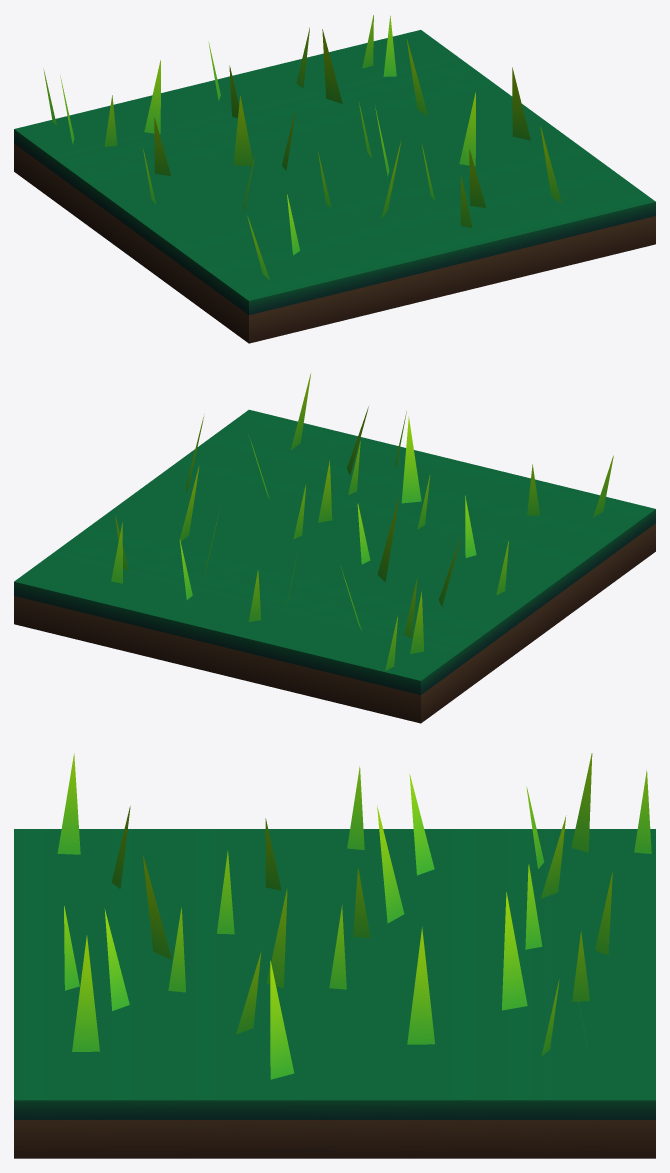
The model's file is Grass_Patch_1A.fbx.
3 views of the same model, one above another, from view 1: azimuth 30°, elevation 25°; view 2: azimuth 150°, elevation 25°; view 3: azimuth 270°, elevation 25° (orthographic). The views are drawn at different scales.
Visible parts, largest first — view 1: Grass_Patch_1A; view 2: Grass_Patch_1A; view 3: Grass_Patch_1A.
Boxes of the visible parts, <box> form: Grass_Patch_1A: <box>14,15,655,343</box>; Grass_Patch_1A: <box>14,373,655,723</box>; Grass_Patch_1A: <box>14,753,655,1158</box>.
Size of the model in its own units: 4 by 1.14 by 4.
